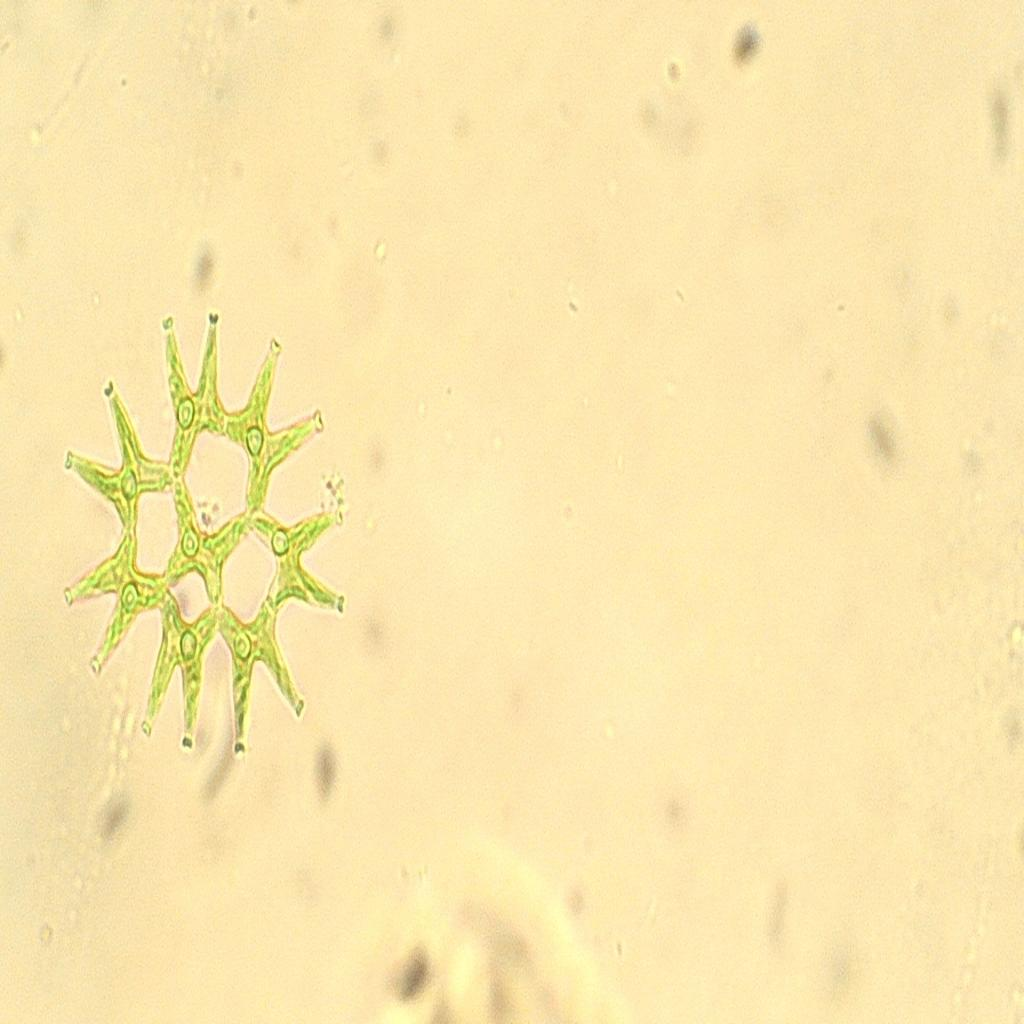Pediastrum_CTH: (54, 292, 370, 786)
